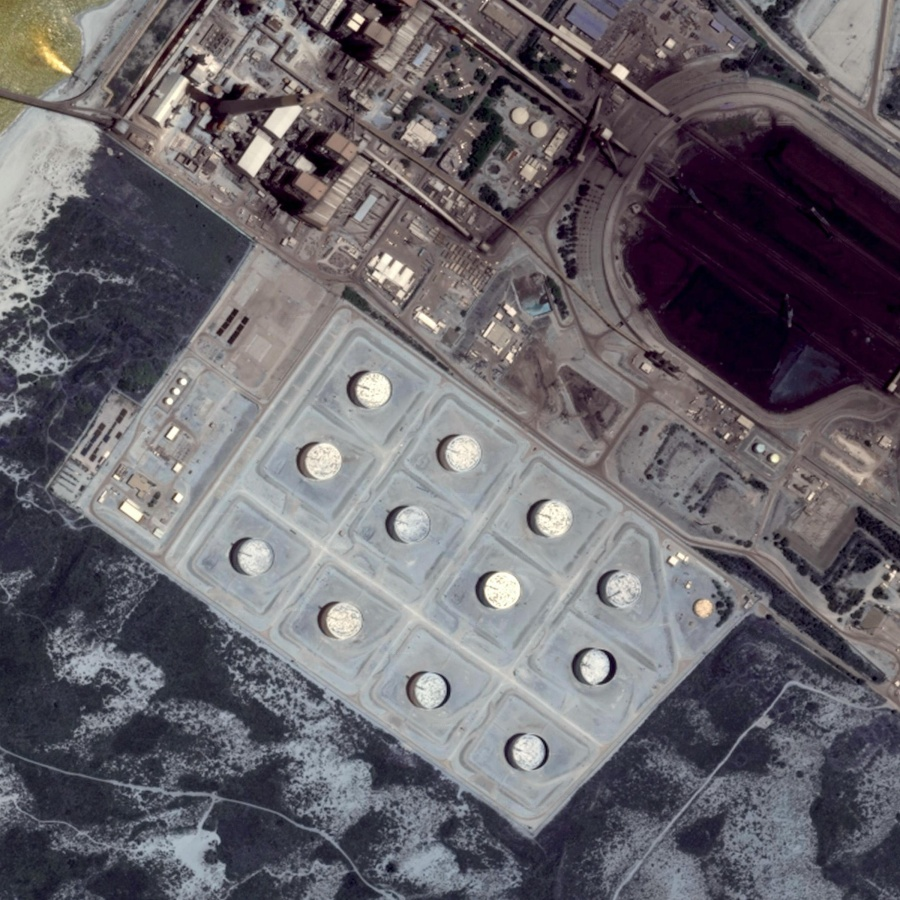PowerPlant: (194, 331, 702, 797)
